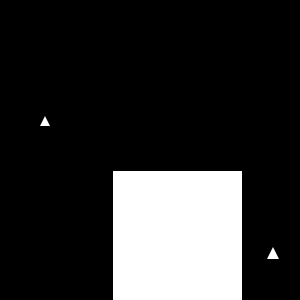circle: (113, 171, 242, 300), (177, 236, 202, 261)
triangle: (267, 247, 279, 259), (40, 116, 50, 126)
